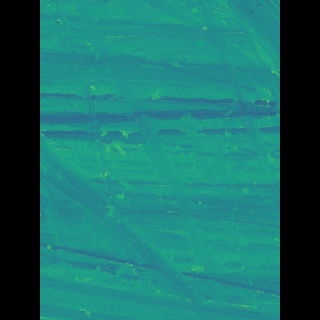Loch: (125, 33, 246, 185)
